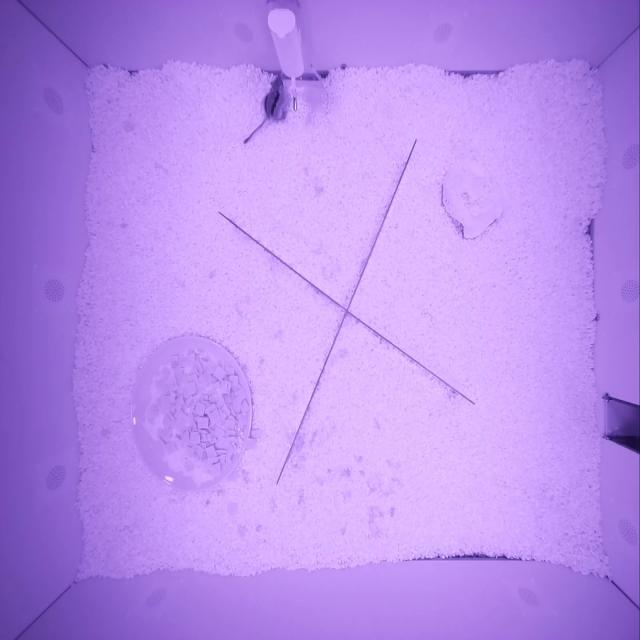pup_v_stripe: (263, 74, 285, 121)
